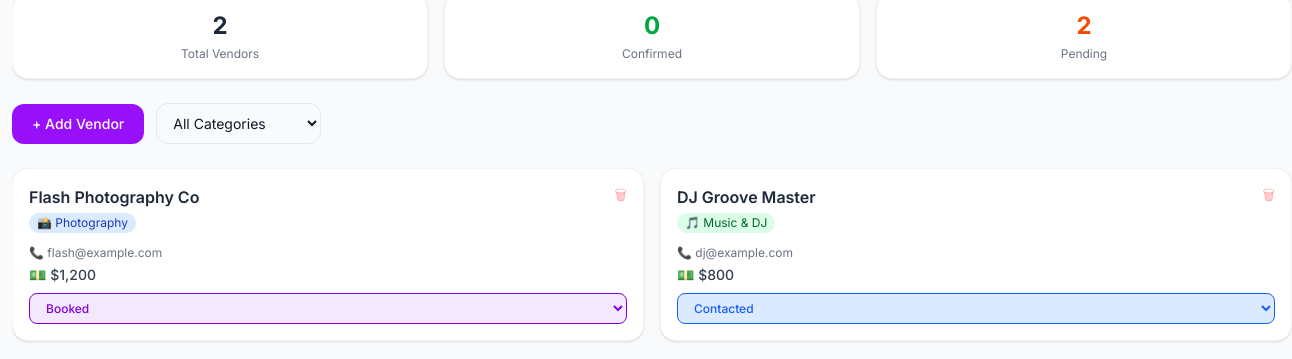
Scenario: VendorPanel component › allows filtering by vendor category
Select "📸 Photography" in the dropdown named "filter vendors by category" at (239, 124), box [156,103,321,144]
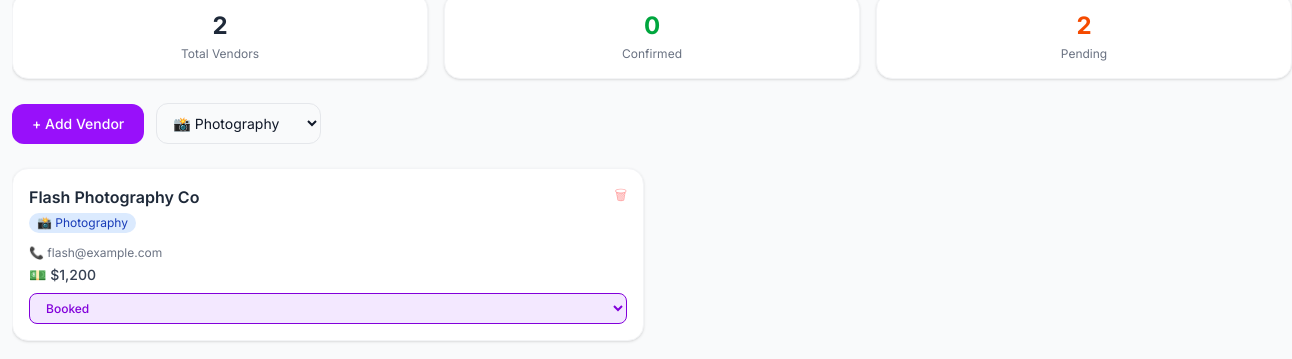
expect the text "Flash Photography Co" is shown: met, box [29,185,199,209]
expect the text "DJ Groove Master" is gone: met
